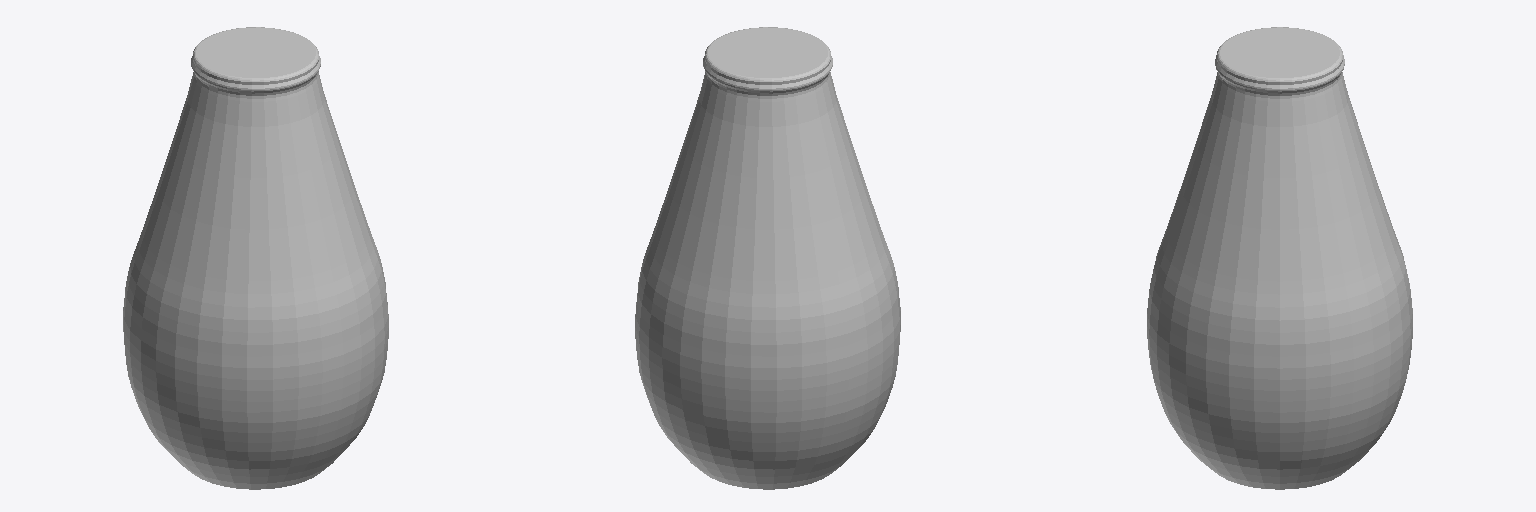
The model's file is ClayPottery1.obj.
3 renders of one model, left to right at view 1: azimuth 30°, elevation 25°; view 2: azimuth 150°, elevation 25°; view 3: azimuth 270°, elevation 25°, orthographic.
Parts seen in each view (by area): view 1: Clay_Pottery_Clay_Pottery; view 2: Clay_Pottery_Clay_Pottery; view 3: Clay_Pottery_Clay_Pottery.
Part boxes in pixels (left/top/right/bottom): Clay_Pottery_Clay_Pottery: left=123, top=27, right=388, bottom=489; Clay_Pottery_Clay_Pottery: left=635, top=27, right=900, bottom=489; Clay_Pottery_Clay_Pottery: left=1147, top=27, right=1412, bottom=489.
Size of the model in its own units: 149 by 250 by 149.